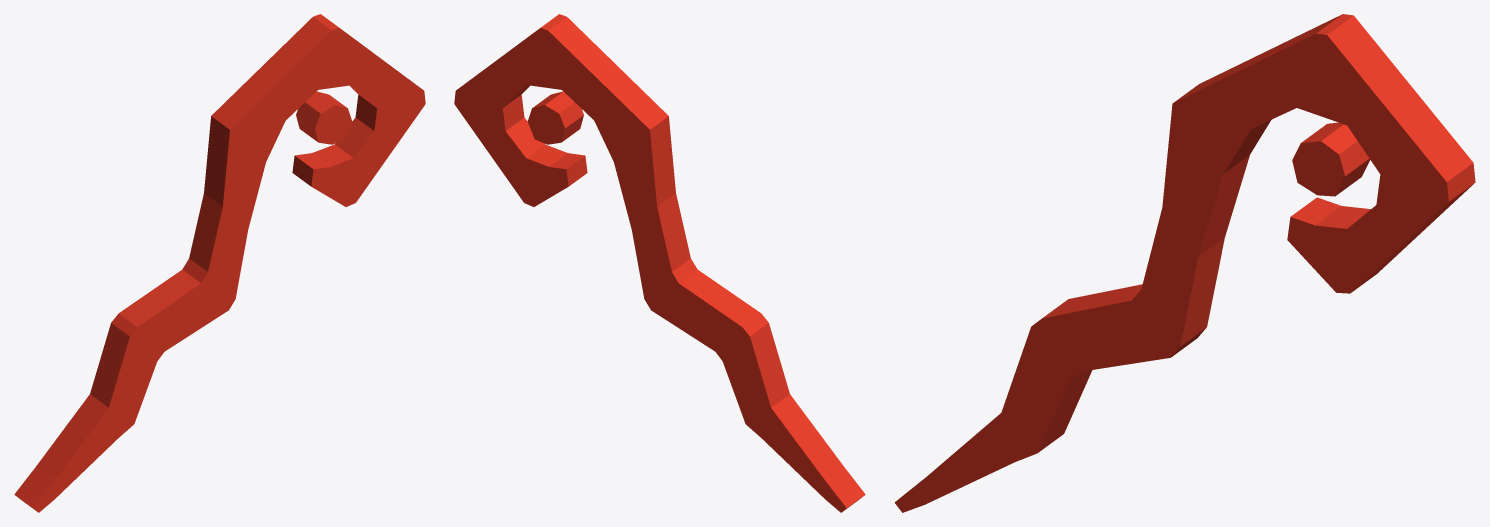
Rendered from Icon_MagicStaff.fbx.
3 renders of one model, left to right at view 1: azimuth 30°, elevation 25°; view 2: azimuth 150°, elevation 25°; view 3: azimuth 330°, elevation 25°, orthographic. The views are drawn at different scales.
Parts seen in each view (by area): view 1: Icon_MagicStaff; view 2: Icon_MagicStaff; view 3: Icon_MagicStaff.
Boxes of the visible parts, left/top/right/bottom form: Icon_MagicStaff: left=14, top=14, right=425, bottom=512; Icon_MagicStaff: left=454, top=14, right=865, bottom=512; Icon_MagicStaff: left=894, top=14, right=1475, bottom=512.
Bounding box in the file's own units: 77.09 × 77.27 × 6.42.
